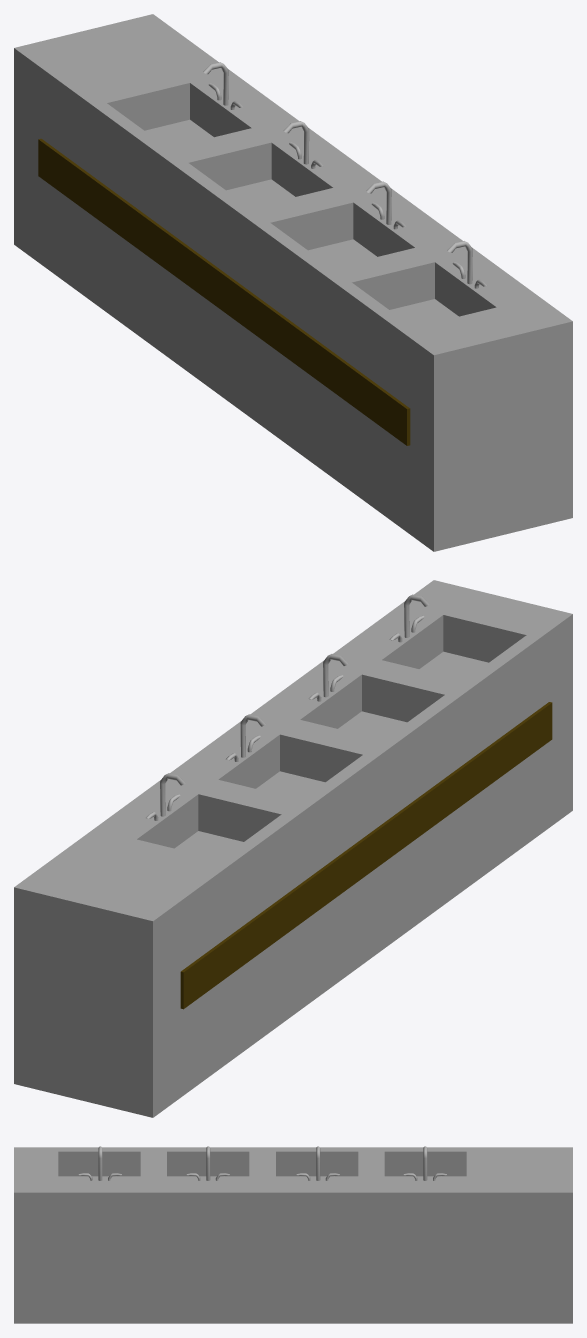
The model's file is Sinks.fbx.
3 views of the same model, one above another, from view 1: azimuth 30°, elevation 25°; view 2: azimuth 150°, elevation 25°; view 3: azimuth 270°, elevation 25° (orthographic). The views are drawn at different scales.
Visible parts, largest first — view 1: pCube132, pCube133; view 2: pCube132, pCube133; view 3: pCube132.
Boxes of the visible parts, x1,y1,x2,y2 form: pCube132: [14, 14, 572, 551]; pCube133: [38, 138, 410, 445]; pCube132: [14, 580, 572, 1117]; pCube133: [180, 702, 552, 1009]; pCube132: [14, 1147, 572, 1323].
Size of the model in its own units: 4.04 by 6.52 by 20.64.
